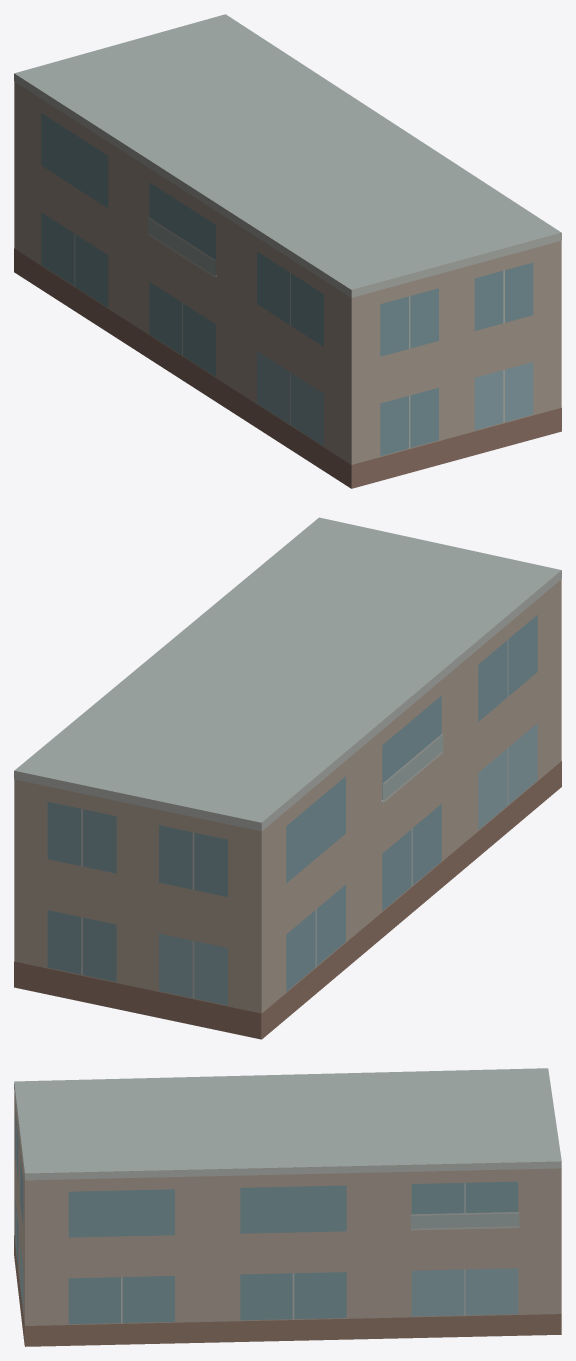
The model's file is survey-upis-32739116.glb.
3 renders of one model, top to bottom at view 1: azimuth 30°, elevation 25°; view 2: azimuth 150°, elevation 25°; view 3: azimuth 270°, elevation 25°, orthographic. The views are drawn at different scales.
Parts seen in each view (by area): view 1: survey-upis-32739116.tmp; view 2: survey-upis-32739116.tmp; view 3: survey-upis-32739116.tmp.
Boxes of the visible parts, x1,y1,x2,y2 form: survey-upis-32739116.tmp: (14, 14, 561, 488); survey-upis-32739116.tmp: (14, 517, 561, 1039); survey-upis-32739116.tmp: (14, 1068, 561, 1346).
Bounding box in the file's own units: 7.96 × 6.1 × 17.48.
